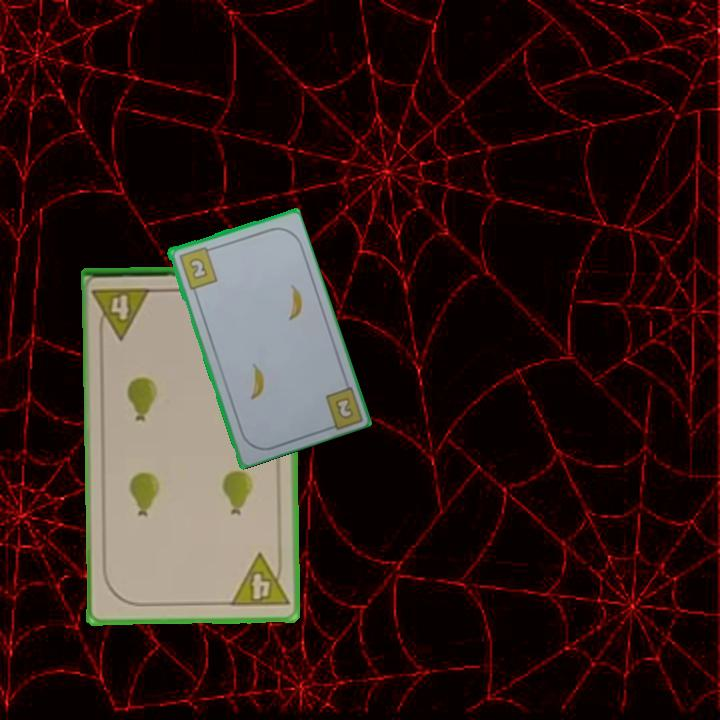2b: (175, 243, 220, 292), (331, 393, 354, 420)
4p: (226, 550, 291, 610), (89, 284, 154, 342)
